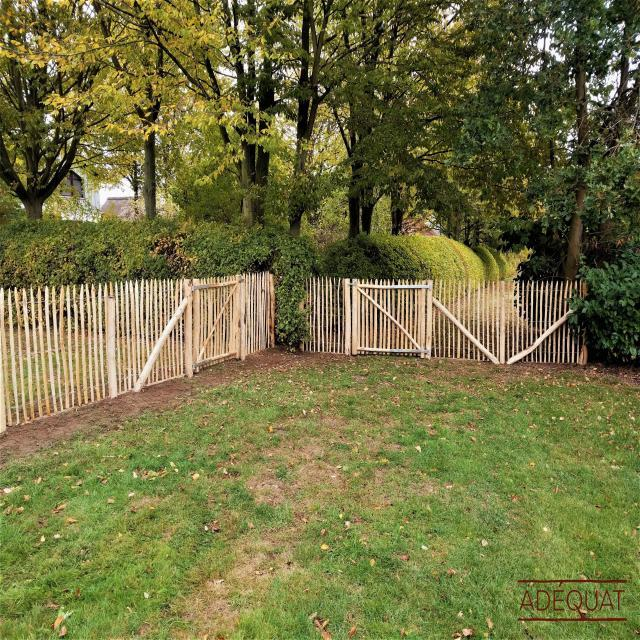fence line: (10, 263, 282, 409), (309, 270, 613, 389)
